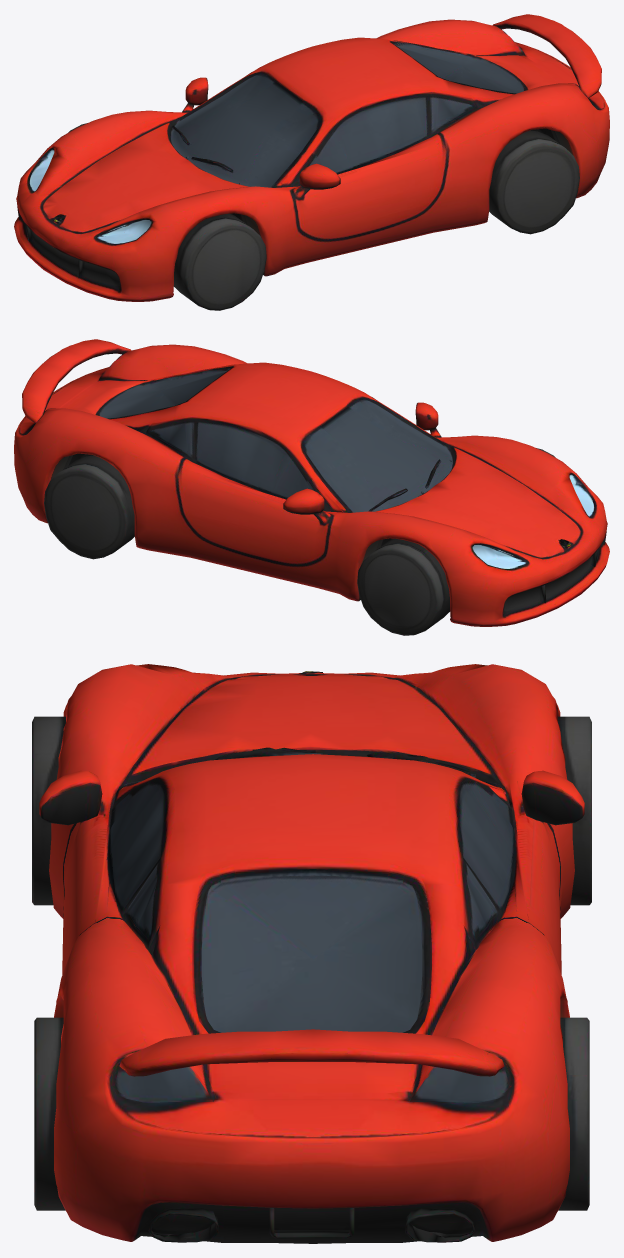
File: selected.fbx
3 renders of one model, top to bottom at view 1: azimuth 30°, elevation 25°; view 2: azimuth 150°, elevation 25°; view 3: azimuth 270°, elevation 25°, orthographic. The views are drawn at different scales.
Parts seen in each view (by area): view 1: tripo_node_f99b333c-b055-485e-9601-00e37b4da260; view 2: tripo_node_f99b333c-b055-485e-9601-00e37b4da260; view 3: tripo_node_f99b333c-b055-485e-9601-00e37b4da260.
Boxes of the visible parts, bbox=[...] form: tripo_node_f99b333c-b055-485e-9601-00e37b4da260: bbox=[14, 14, 609, 310]; tripo_node_f99b333c-b055-485e-9601-00e37b4da260: bbox=[14, 339, 609, 635]; tripo_node_f99b333c-b055-485e-9601-00e37b4da260: bbox=[32, 664, 591, 1243].
Size of the model in its own units: 99.8 by 25.59 by 45.12.
1 material, 1 textured.
